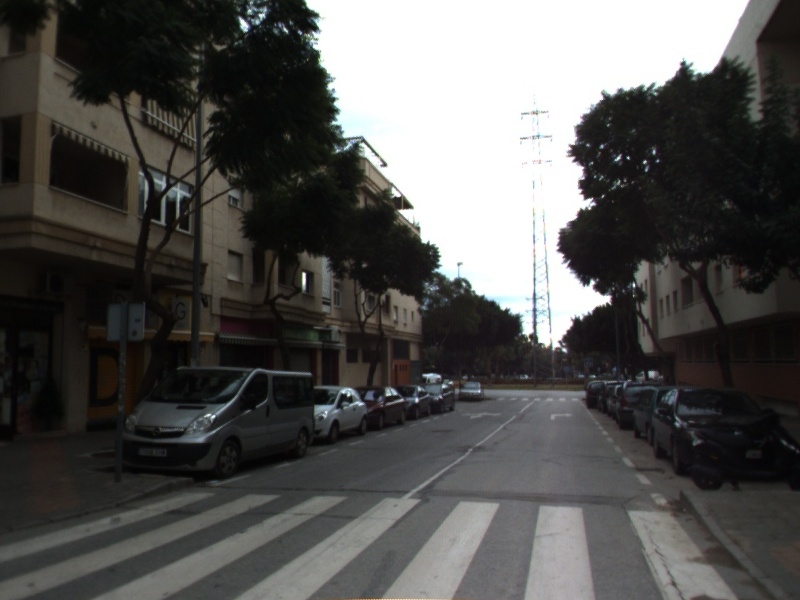RIGHT: (549, 411, 575, 421)
